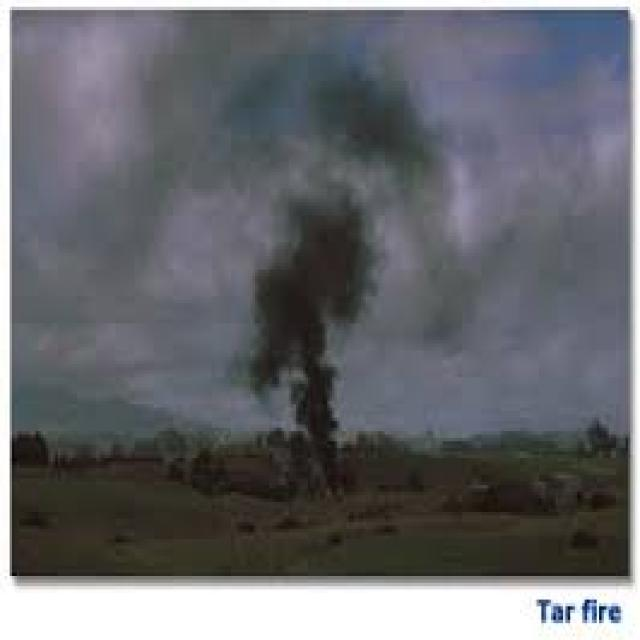smoke: (0, 51, 633, 462)
